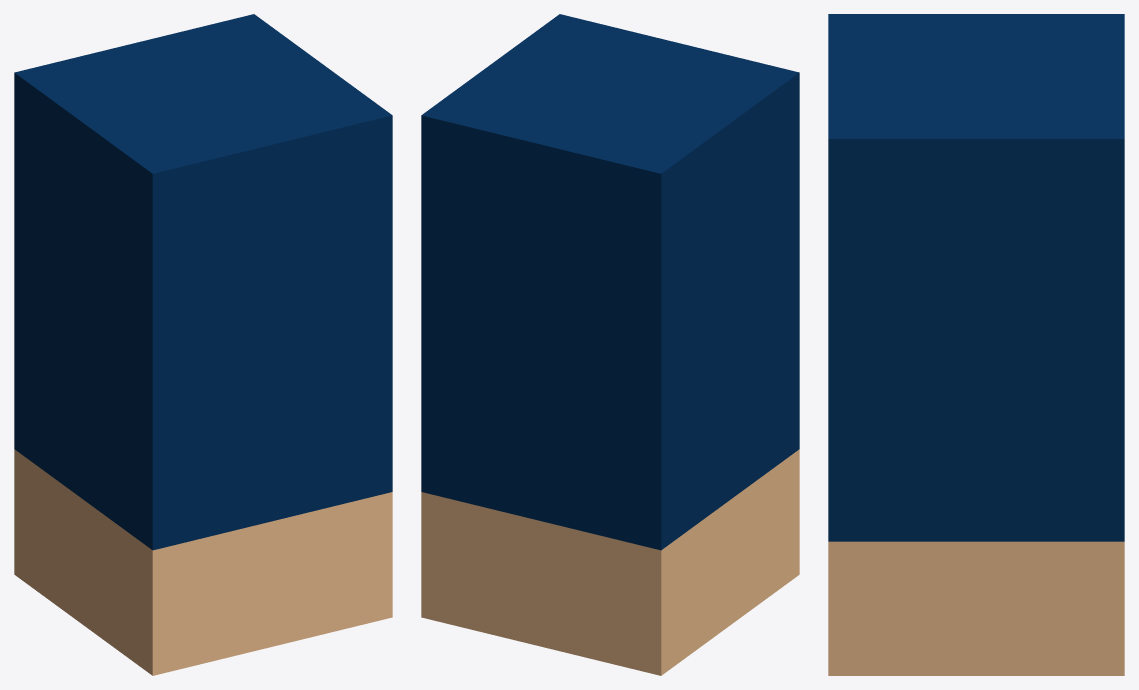
Rendered from leg5.obj.
The picture shows the model from 3 angles, left to right: view 1: azimuth 30°, elevation 25°; view 2: azimuth 150°, elevation 25°; view 3: azimuth 270°, elevation 25°; orthographic projection. The views are drawn at different scales.
Bounding box in the file's own units: 0.2 × 0.4 × 0.2.
Materials: 1 (1 with a texture image).
